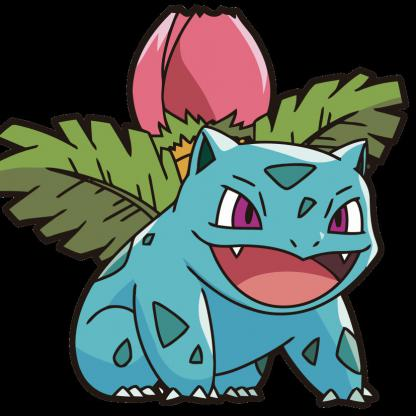Ivysaur: (11, 22, 416, 403)
